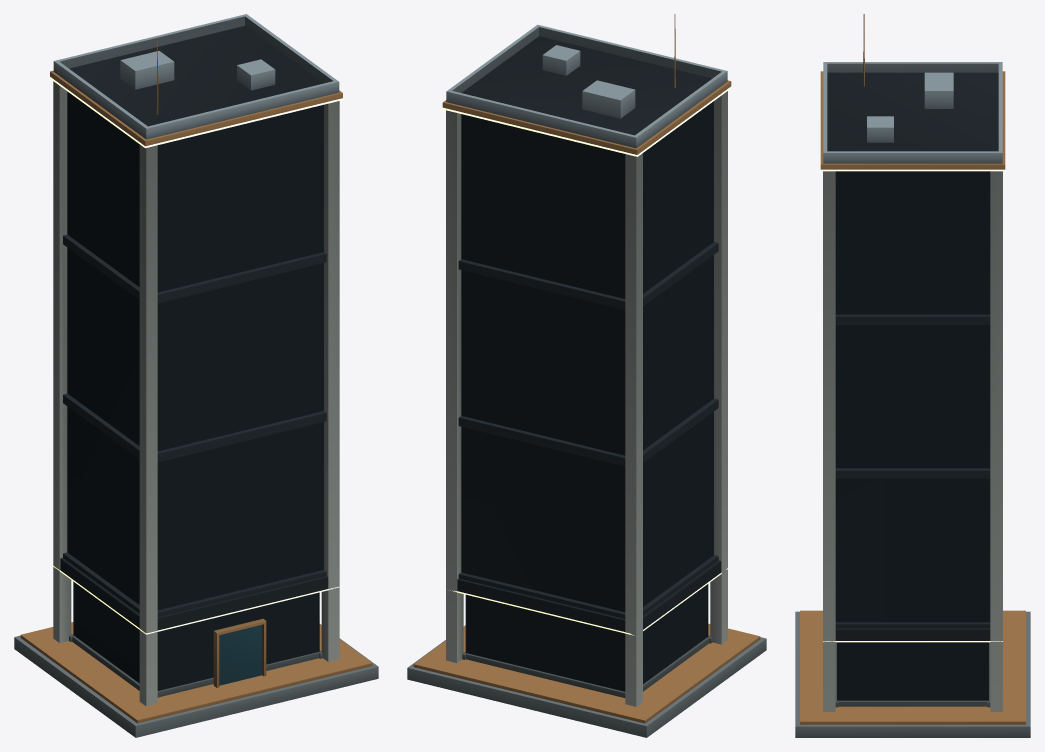
Rendered from data-tower-a.lod2.glb.
3 renders of one model, left to right at view 1: azimuth 30°, elevation 25°; view 2: azimuth 150°, elevation 25°; view 3: azimuth 270°, elevation 25°, orthographic. The views are drawn at different scales.
Visible parts, largest first — view 1: structure; view 2: structure; view 3: structure.
Part boxes in pixels (x1,y1,x2,y2): structure: (14,14,378,737); structure: (407,14,766,737); structure: (795,14,1030,737).
Size of the model in its own units: 15 by 38.79 by 13.
